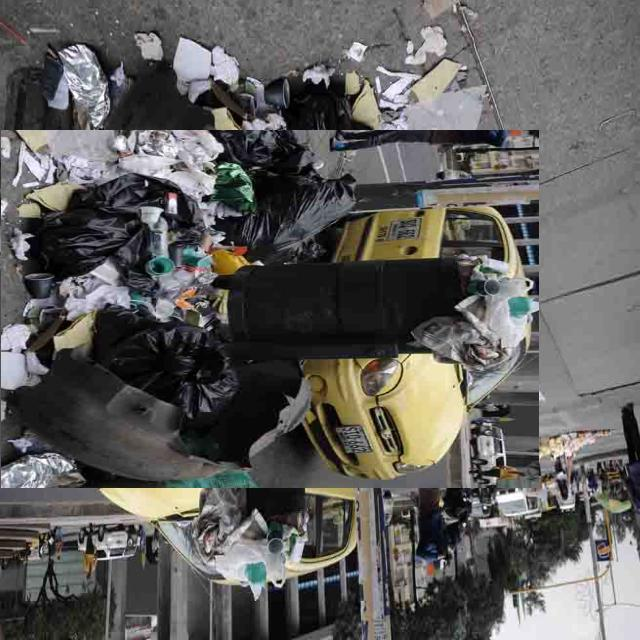garbage: (23, 77, 486, 541)
